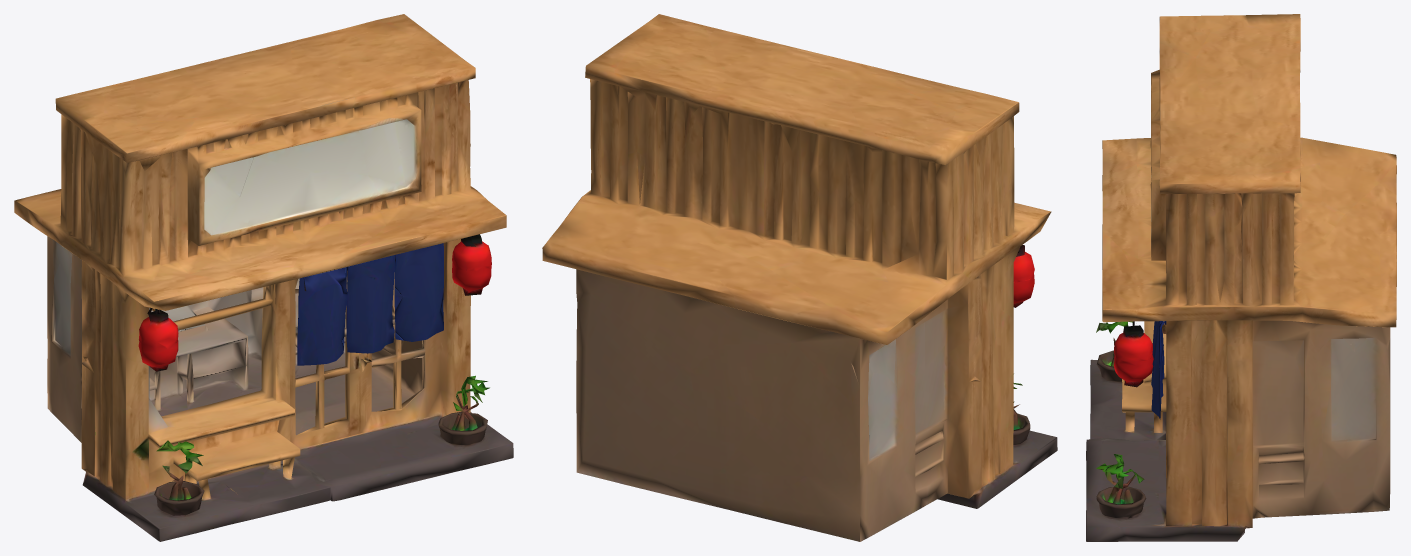
The model's file is sushi_restaurant.glb.
3 renders of one model, left to right at view 1: azimuth 30°, elevation 25°; view 2: azimuth 150°, elevation 25°; view 3: azimuth 270°, elevation 25°, orthographic. The views are drawn at different scales.
Parts seen in each view (by area): view 1: tripo_node_4be3cb2a-f16d-4d08-b023-31c5e8ec6428; view 2: tripo_node_4be3cb2a-f16d-4d08-b023-31c5e8ec6428; view 3: tripo_node_4be3cb2a-f16d-4d08-b023-31c5e8ec6428.
Boxes of the visible parts, left/top/right/bottom form: tripo_node_4be3cb2a-f16d-4d08-b023-31c5e8ec6428: left=14, top=14, right=513, bottom=541; tripo_node_4be3cb2a-f16d-4d08-b023-31c5e8ec6428: left=542, top=14, right=1057, bottom=541; tripo_node_4be3cb2a-f16d-4d08-b023-31c5e8ec6428: left=1086, top=14, right=1396, bottom=541.
Bounding box in the file's own units: 7 × 6.86 × 5.36.
Materials: 1 (1 with a texture image).
